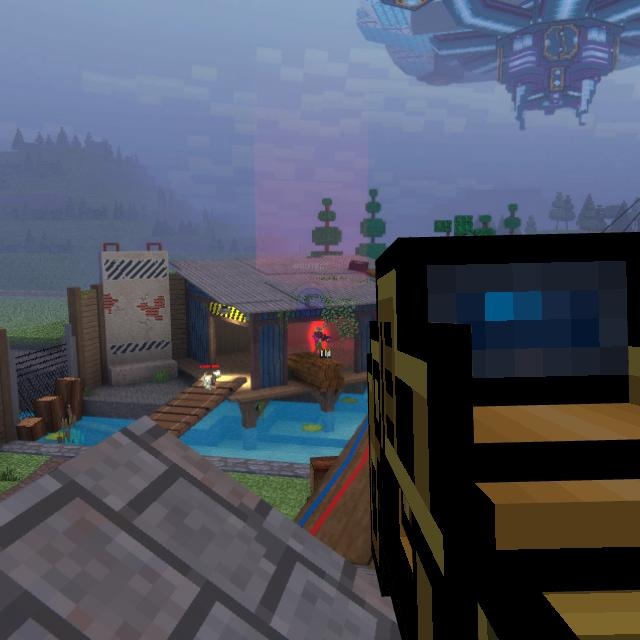Enemy: (312, 328, 328, 353)
